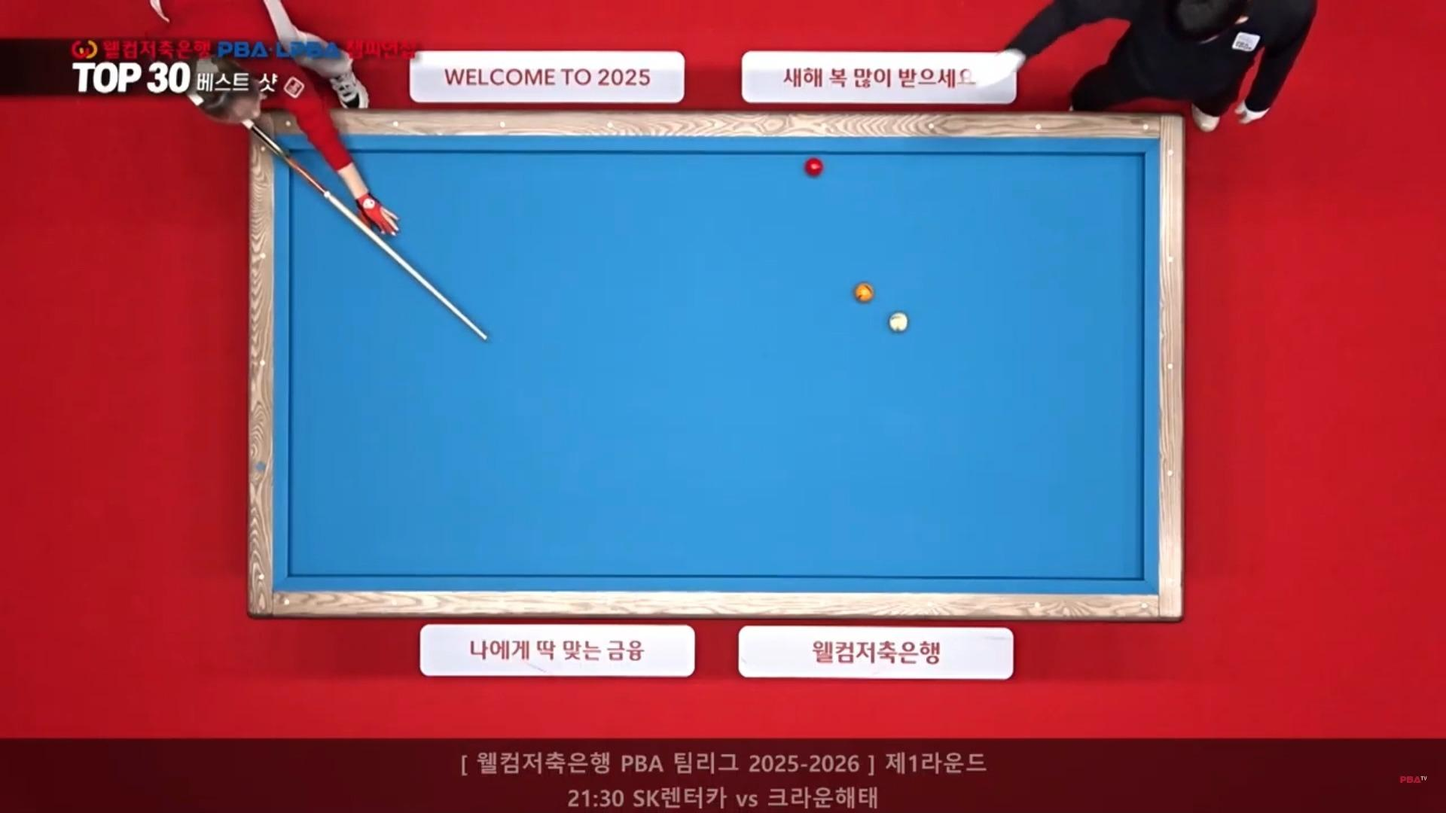Red: (803, 160, 825, 178)
White: (886, 312, 911, 332)
Yellow: (854, 282, 878, 302)
